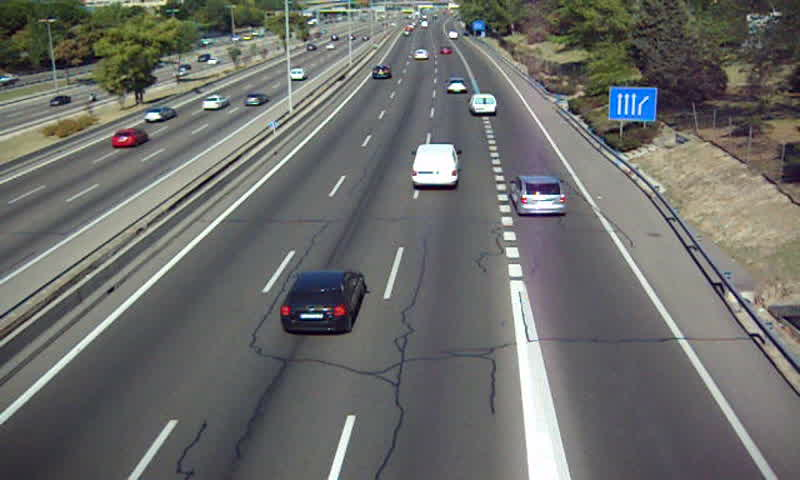car: (279, 271, 367, 333), (508, 175, 566, 216), (446, 78, 469, 96), (372, 64, 392, 80), (411, 47, 430, 59)
van: (412, 144, 459, 190), (468, 94, 497, 115)
